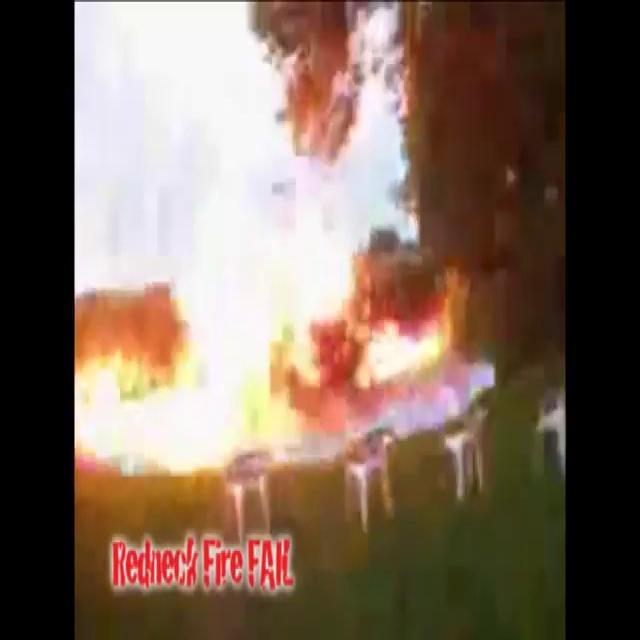Fire: (84, 4, 471, 474)
